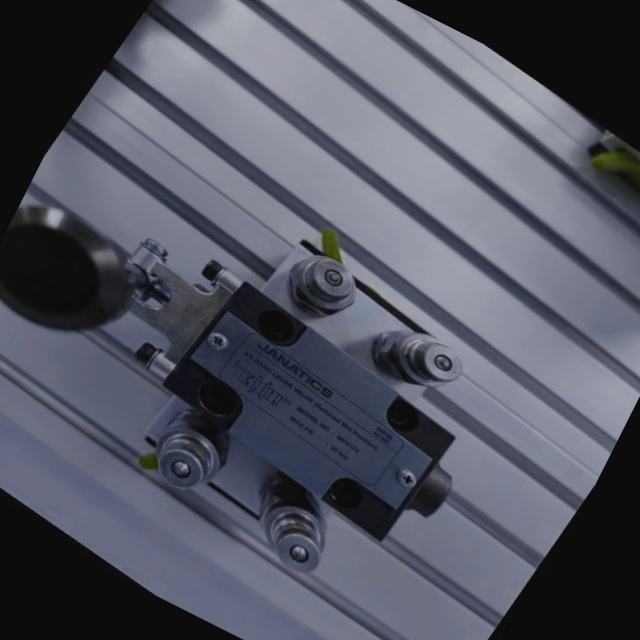4by3 hand lever valve: (0, 57, 580, 640)
